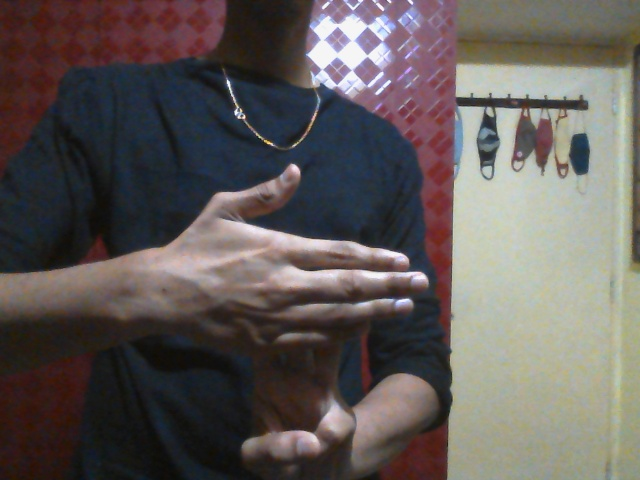M: (170, 163, 428, 480)
